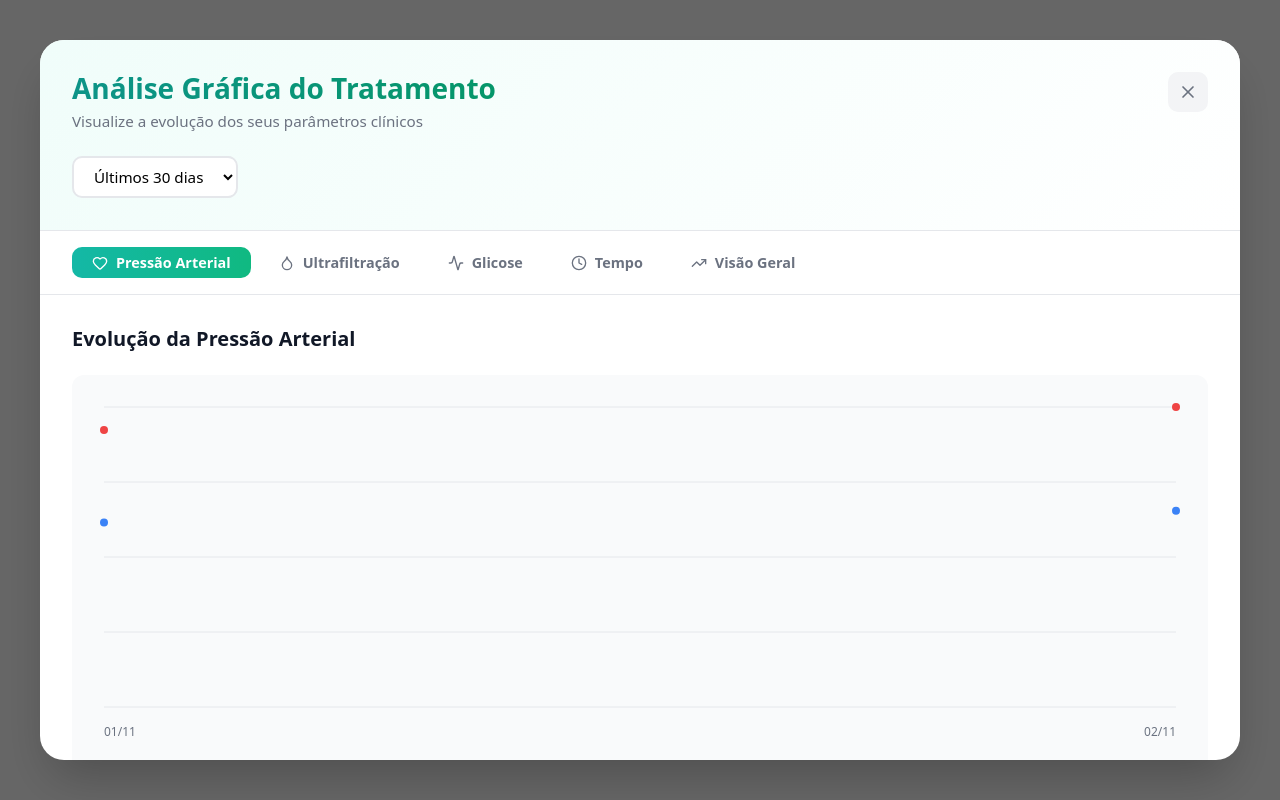
ChartsModal Component › permite trocar o gráfico ativo clicando nas abas
Expected: the heading "Evolução da Pressão Arterial" is shown, [72, 325, 355, 352]
Click the button "Glicose": (485, 263) [428, 247, 543, 278]
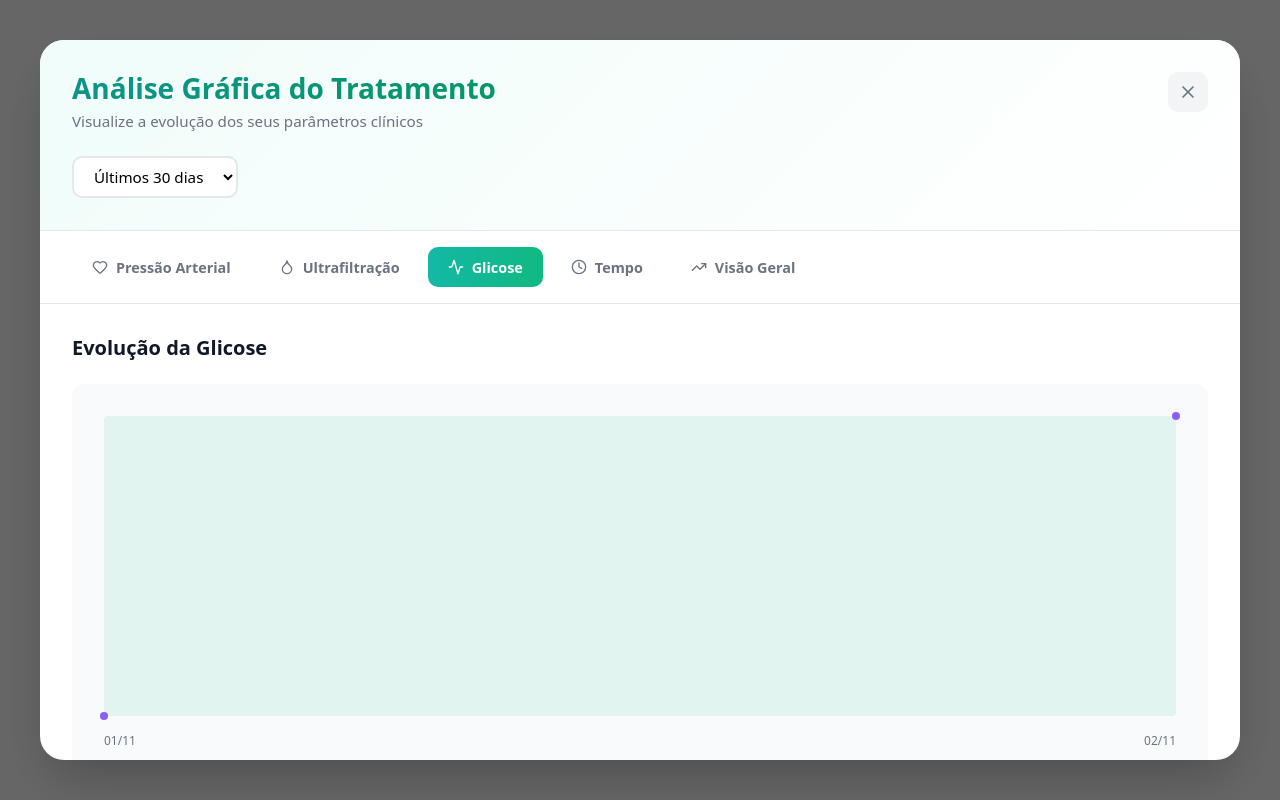
Expected: the heading "Evolução da Glicose" is shown, [72, 334, 267, 361]
